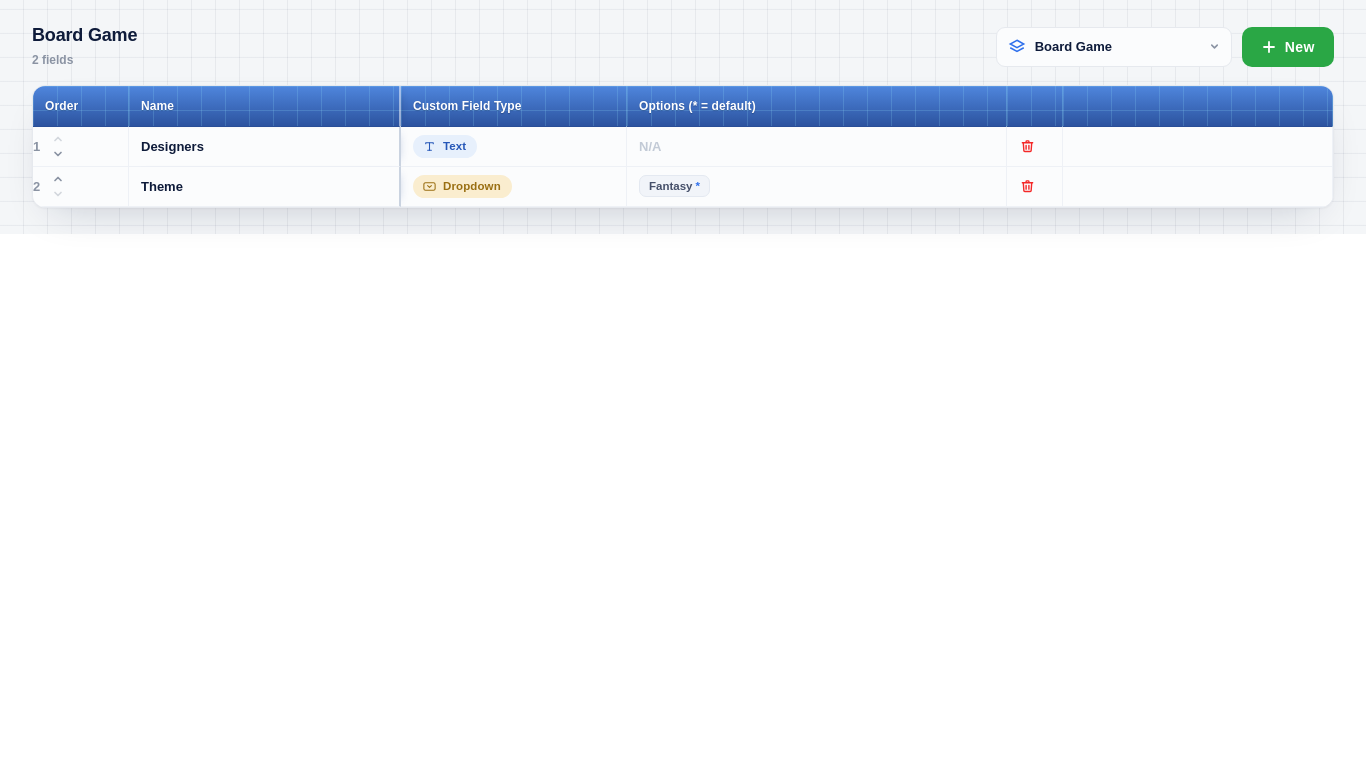
Test case: CustomFieldsManager › opens the edit modal when a field's options cell is clicked
The width and height of the screenshot is (1366, 768).
Expected: the button "Theme" is shown, [135,176,393,197]
Click the button with aria-label "Edit Theme": [674, 186] box [633,171,1012,201]
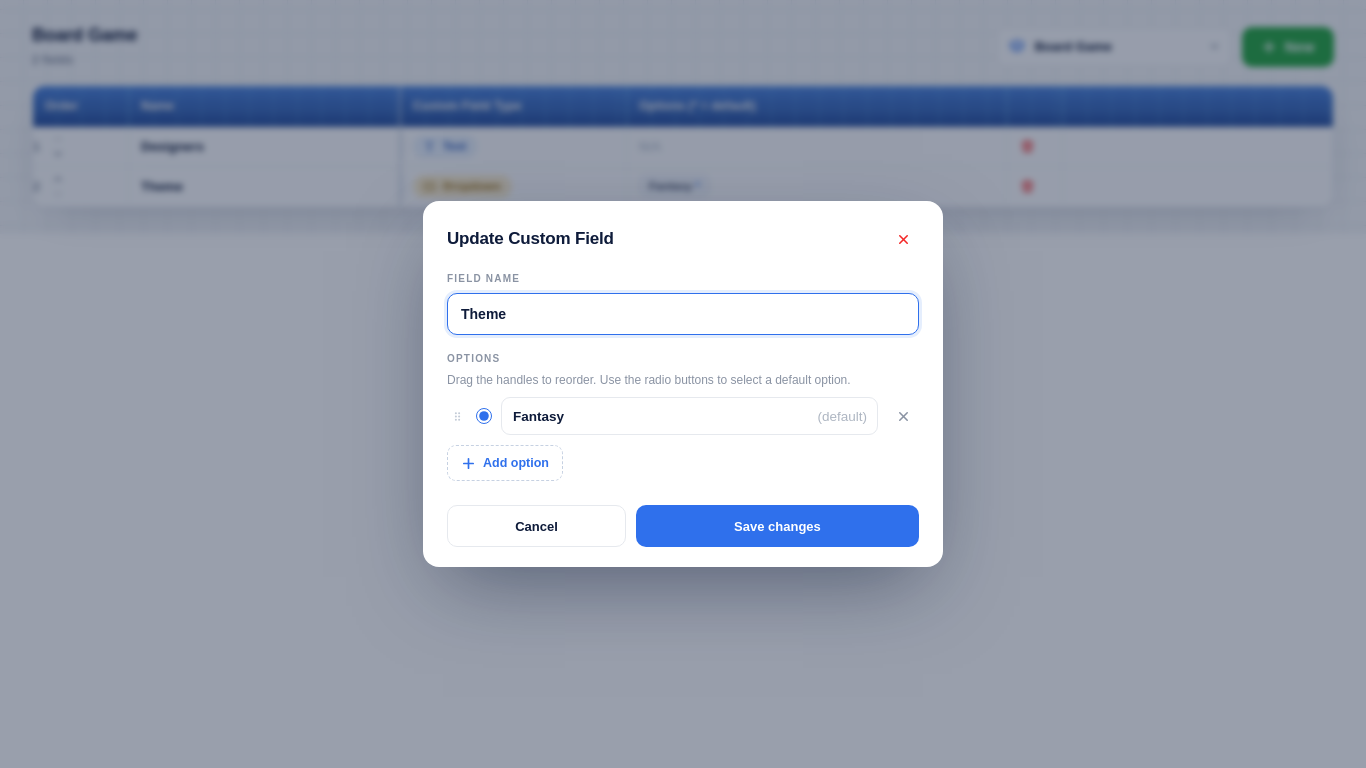
Now the heading "Update Custom Field" is shown, box [447,229,614,249]
Now the field labelled "Field name" holds "Theme", box [447,293,919,335]
